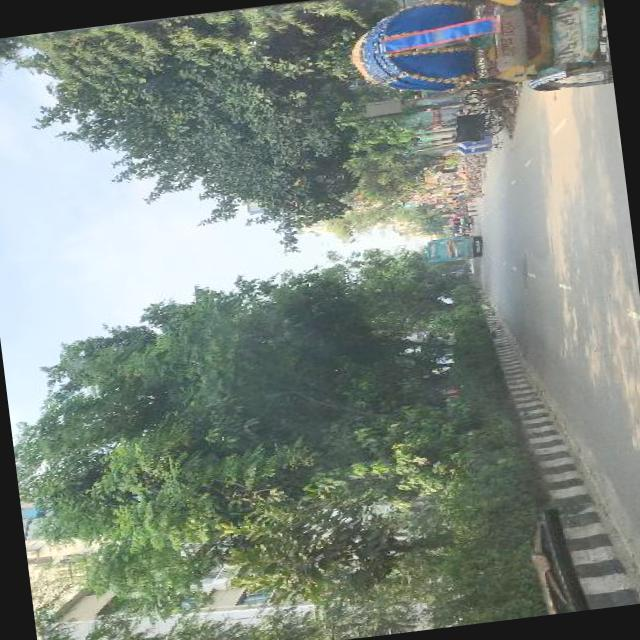bus: (422, 232, 482, 262)
car: (456, 260, 469, 274)
motorcycle: (338, 0, 612, 115), (448, 212, 474, 225), (450, 224, 472, 232), (448, 200, 466, 208)
